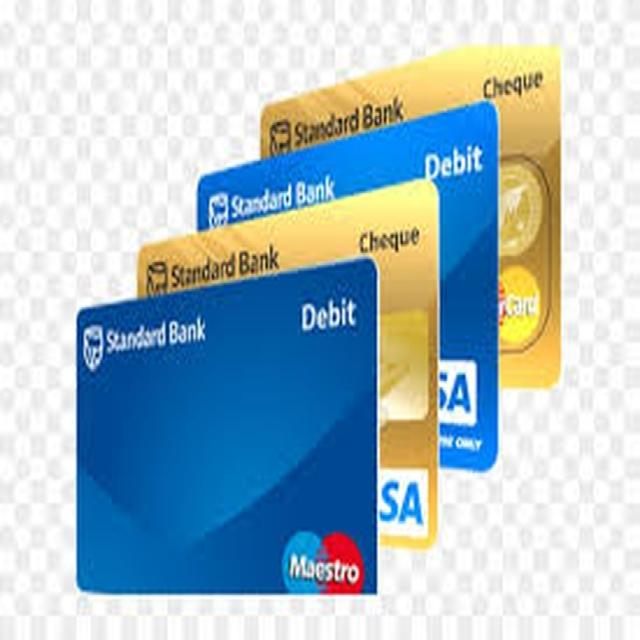card: (253, 72, 582, 403), (195, 158, 501, 489), (136, 238, 430, 557), (65, 308, 376, 590)
